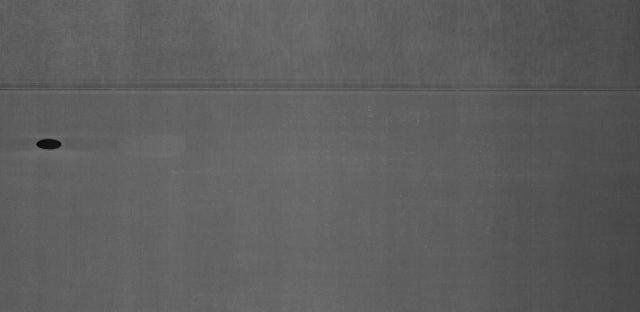punching_hole: (33, 134, 66, 154)
welding_line: (0, 79, 640, 103)
